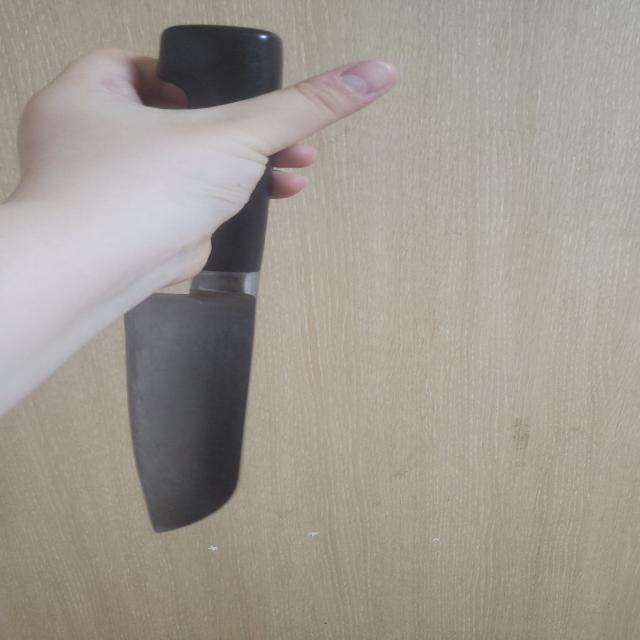knife: (126, 24, 286, 535)
